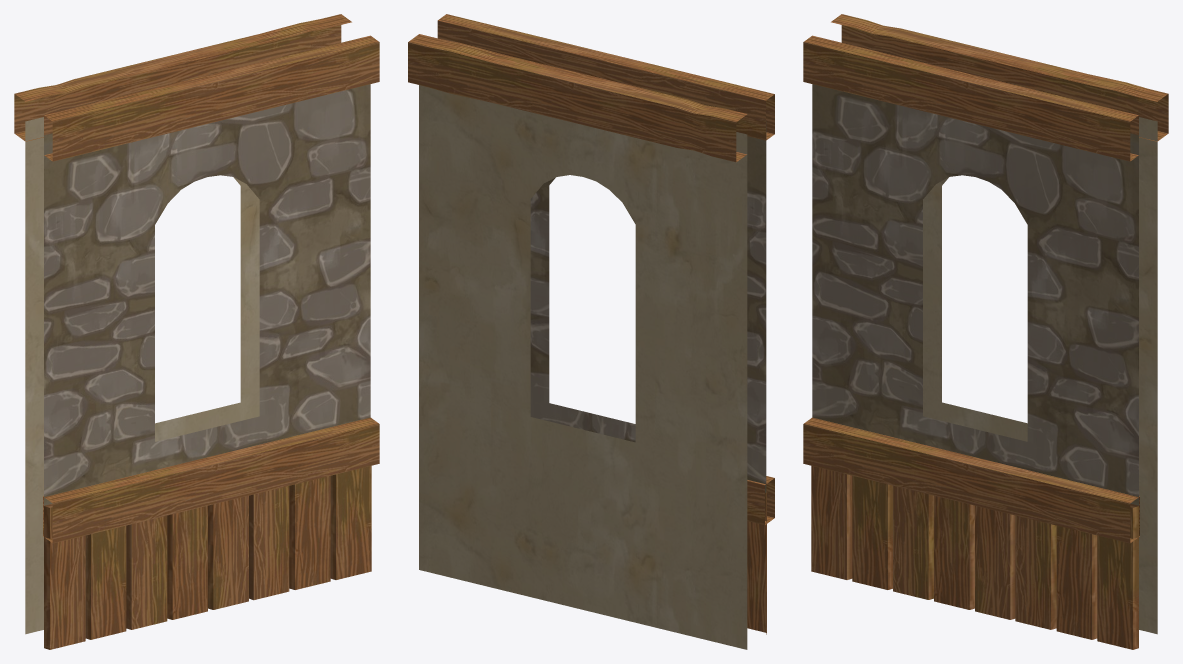
Rendered from Wall_WoodBrick_Window_Thin_Round.gltf.
3 views of the same model, side by side, from view 1: azimuth 30°, elevation 25°; view 2: azimuth 150°, elevation 25°; view 3: azimuth 330°, elevation 25° (orthographic).
Visible parts, largest first — view 1: Wall_WoodBrick_Window_Thin_Round; view 2: Wall_WoodBrick_Window_Thin_Round; view 3: Wall_WoodBrick_Window_Thin_Round.
Boxes of the visible parts, box(x1,y1,x2,y2) form: Wall_WoodBrick_Window_Thin_Round: box(14, 14, 379, 649); Wall_WoodBrick_Window_Thin_Round: box(408, 14, 774, 649); Wall_WoodBrick_Window_Thin_Round: box(803, 14, 1168, 649).
Size of the model in its own units: 2 by 3.12 by 0.4065.
4 materials, 4 textured.
